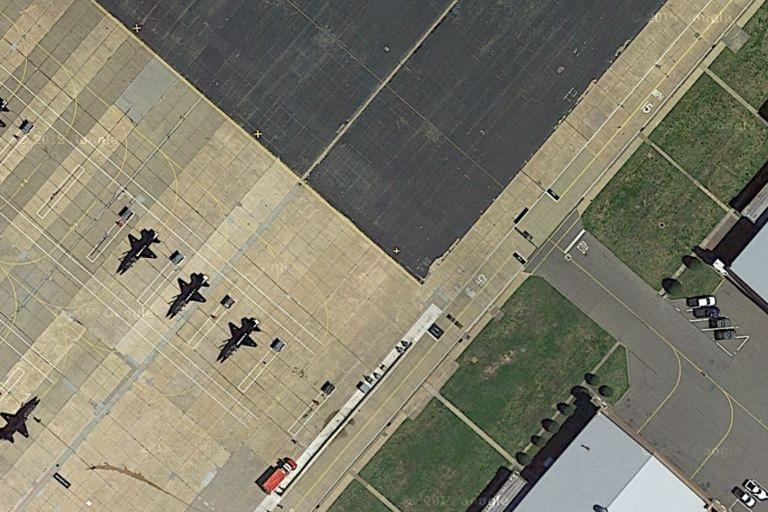plane: (112, 220, 161, 277), (213, 312, 264, 365), (163, 268, 213, 321), (1, 394, 39, 449)
